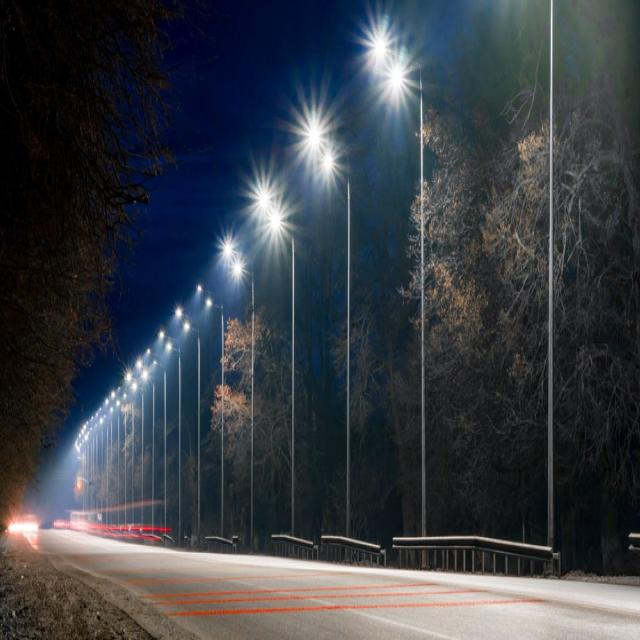Street Light: (374, 34, 428, 568), (305, 123, 351, 561), (256, 185, 296, 558), (221, 240, 255, 553), (196, 284, 224, 547), (176, 307, 200, 545), (158, 332, 182, 545), (147, 347, 167, 532), (137, 361, 155, 534), (126, 373, 145, 527), (111, 390, 128, 536), (118, 384, 134, 526)
